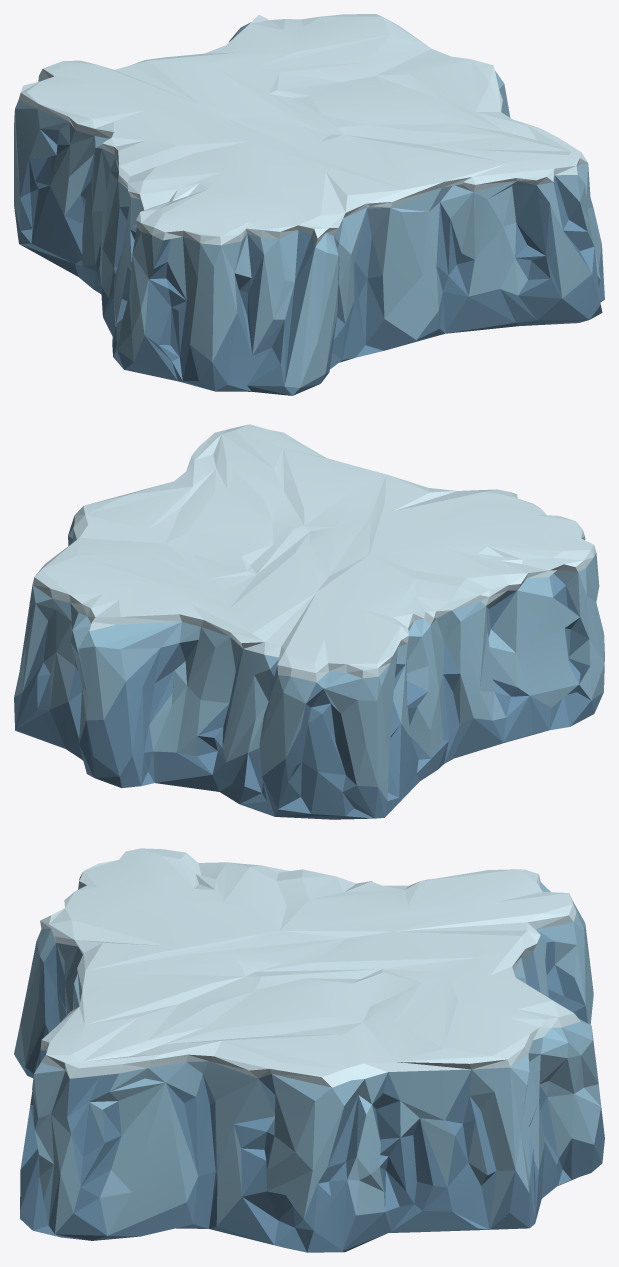
The model's file is Iceberg.glb.
The picture shows the model from 3 angles, top to bottom: view 1: azimuth 30°, elevation 25°; view 2: azimuth 150°, elevation 25°; view 3: azimuth 270°, elevation 25°; orthographic projection. The views are drawn at different scales.
Visible parts, largest first — view 1: SM_Env_Glacier_02; view 2: SM_Env_Glacier_02; view 3: SM_Env_Glacier_02.
Boxes of the visible parts, <box> form: SM_Env_Glacier_02: <box>14,14,604,395</box>; SM_Env_Glacier_02: <box>14,424,604,819</box>; SM_Env_Glacier_02: <box>14,848,604,1252</box>.
Size of the model in its own units: 37.25 by 12.15 by 37.18.
Materials: 1 (1 with a texture image).
